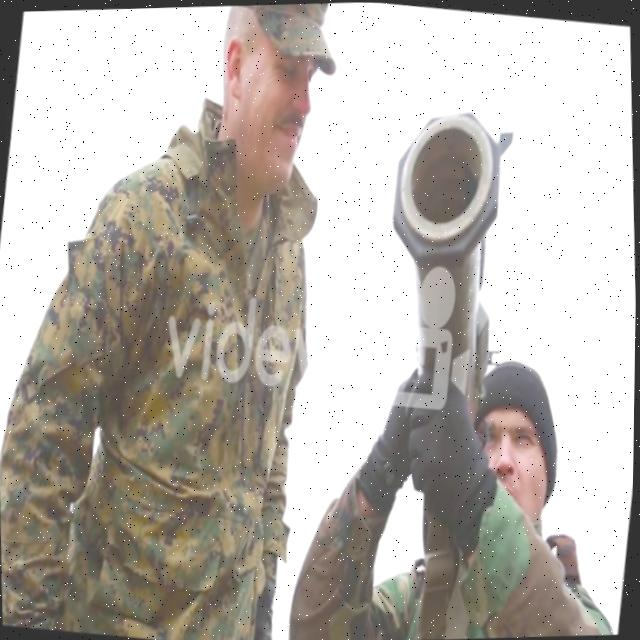rocket: (365, 99, 525, 415)
